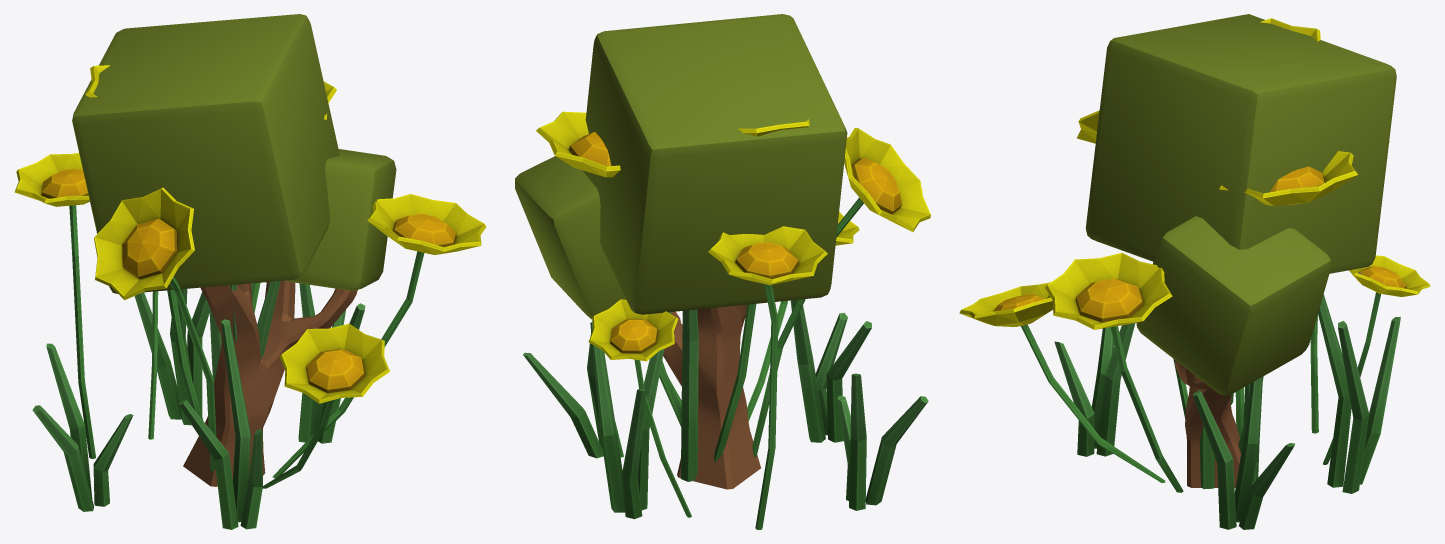
Rendered from ของเดิมLCV.glb.
3 views of the same model, side by side, from view 1: azimuth 30°, elevation 25°; view 2: azimuth 150°, elevation 25°; view 3: azimuth 270°, elevation 25° (orthographic). The views are drawn at different scales.
Parts seen in each view (by area): view 1: Tree_2, DesertMarigold_mesh; view 2: Tree_2, DesertMarigold_mesh; view 3: Tree_2, DesertMarigold_mesh.
Part boxes in pixels (x1,y1,x2,y2): Tree_2: (72, 14, 396, 486); DesertMarigold_mesh: (14, 65, 486, 529); Tree_2: (515, 14, 847, 489); DesertMarigold_mesh: (523, 111, 930, 529); Tree_2: (1085, 14, 1396, 487); DesertMarigold_mesh: (959, 18, 1430, 529).
Bounding box in the file's own units: 33.1 × 33.34 × 32.74.
Materials: 2 (2 with a texture image).
